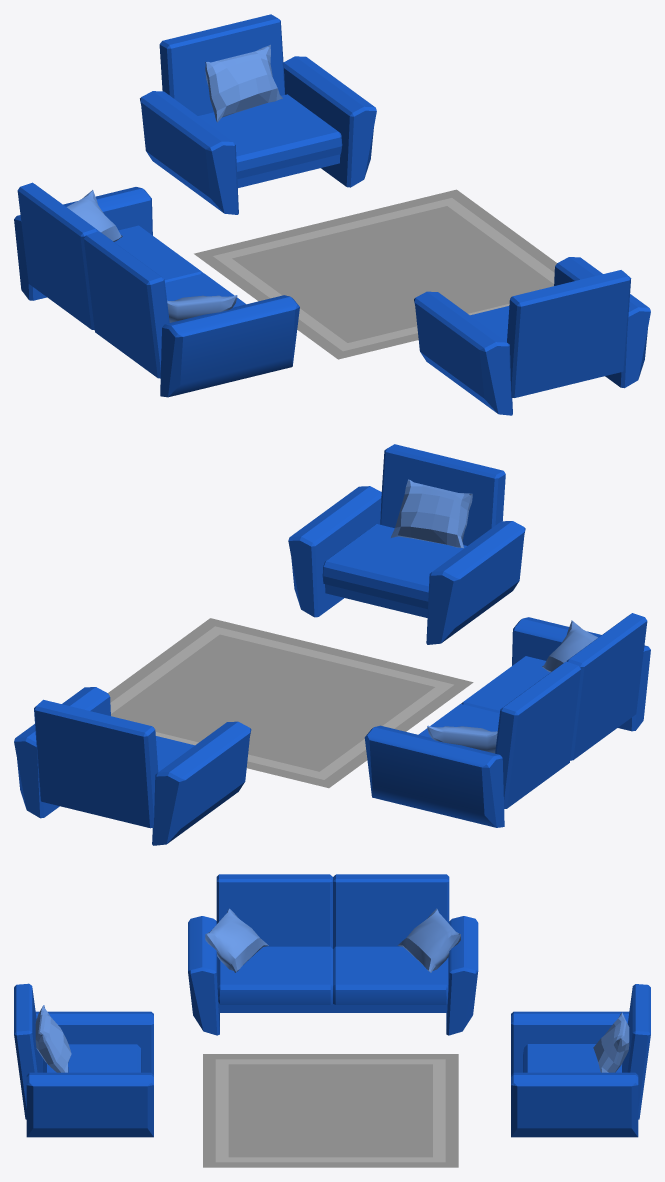
Rendered from SalaEstarObjetos03.fbx.
3 views of the same model, one above another, from view 1: azimuth 30°, elevation 25°; view 2: azimuth 150°, elevation 25°; view 3: azimuth 270°, elevation 25° (orthographic). The views are drawn at different scales.
Visible parts, largest first — view 1: SalaEstarObjetos03; view 2: SalaEstarObjetos03; view 3: SalaEstarObjetos03.
Boxes of the visible parts, x1,y1,x2,y2 form: SalaEstarObjetos03: [14, 14, 650, 415]; SalaEstarObjetos03: [14, 444, 650, 845]; SalaEstarObjetos03: [14, 874, 650, 1167].
Size of the model in its own units: 403 by 102 by 565.
